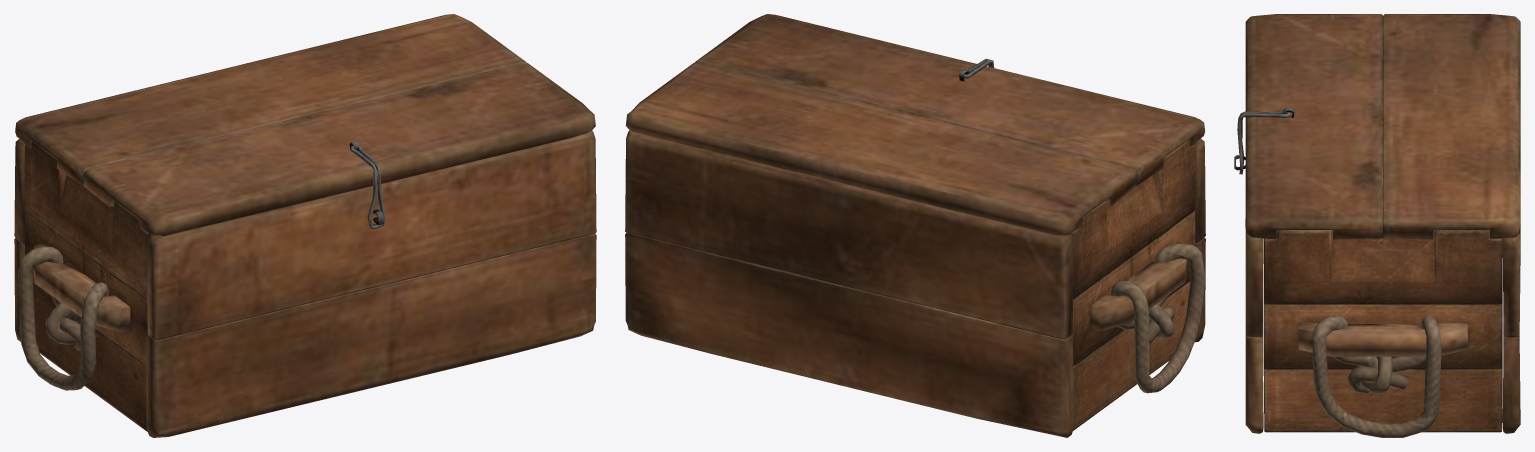
The model's file is crate.glb.
3 views of the same model, side by side, from view 1: azimuth 30°, elevation 25°; view 2: azimuth 150°, elevation 25°; view 3: azimuth 270°, elevation 25° (orthographic). The views are drawn at different scales.
Parts seen in each view (by area): view 1: wooden_crate_01_lid; view 2: wooden_crate_01_lid; view 3: wooden_crate_01_lid.
Part boxes in pixels (x1,y1,x2,y2): wooden_crate_01_lid: [14, 14, 596, 437]; wooden_crate_01_lid: [625, 14, 1205, 437]; wooden_crate_01_lid: [1234, 14, 1520, 437].
Bounding box in the file's own units: 0.8245 × 0.3495 × 0.4071.
1 material, 1 textured.
